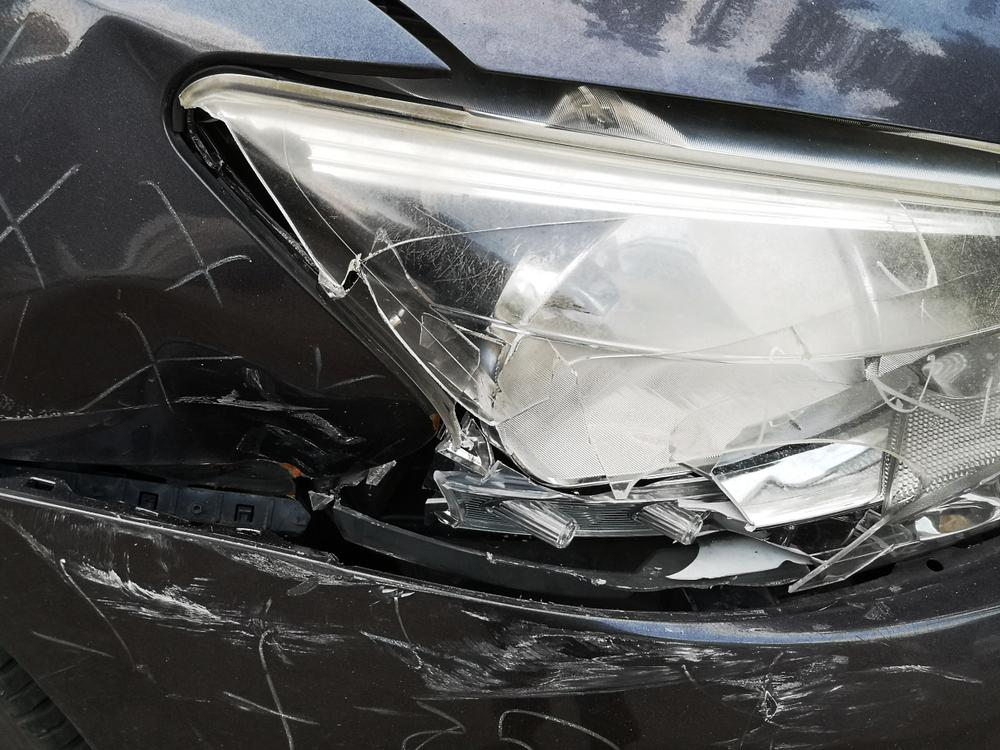dent: (0, 286, 422, 470)
lamp broken: (172, 69, 1000, 589)
scratch: (0, 504, 1000, 750)
